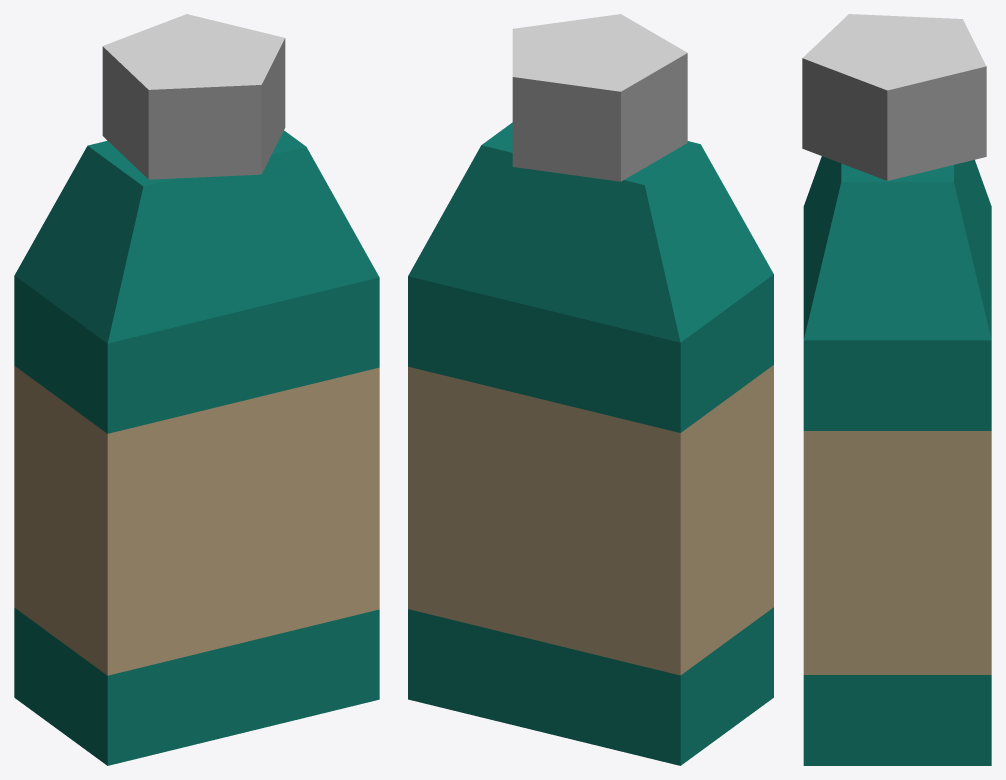
File: TB_D_Prop_Bottle_Med_B.FBX
3 views of the same model, side by side, from view 1: azimuth 30°, elevation 25°; view 2: azimuth 150°, elevation 25°; view 3: azimuth 270°, elevation 25° (orthographic).
Parts seen in each view (by area): view 1: TB_D_Prop_Bottle_Med_B; view 2: TB_D_Prop_Bottle_Med_B; view 3: TB_D_Prop_Bottle_Med_B.
Part boxes in pixels (x1,y1,x2,y2): TB_D_Prop_Bottle_Med_B: [14, 14, 379, 765]; TB_D_Prop_Bottle_Med_B: [408, 14, 773, 765]; TB_D_Prop_Bottle_Med_B: [802, 14, 991, 765].
Bounding box in the file's own units: 0.3144 × 0.7119 × 0.1879.
